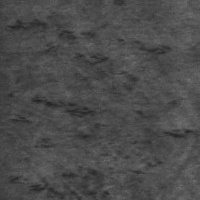rolled-in_scale: (18, 30, 169, 170), (7, 125, 195, 199)
